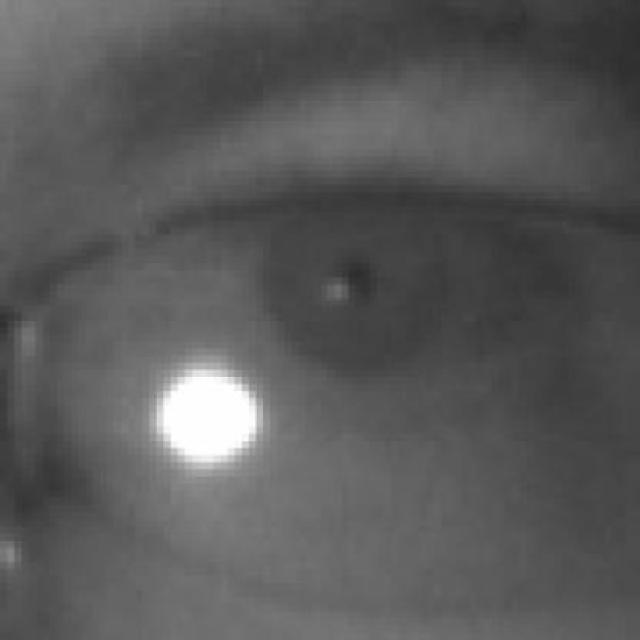awake: (218, 190, 560, 408)
